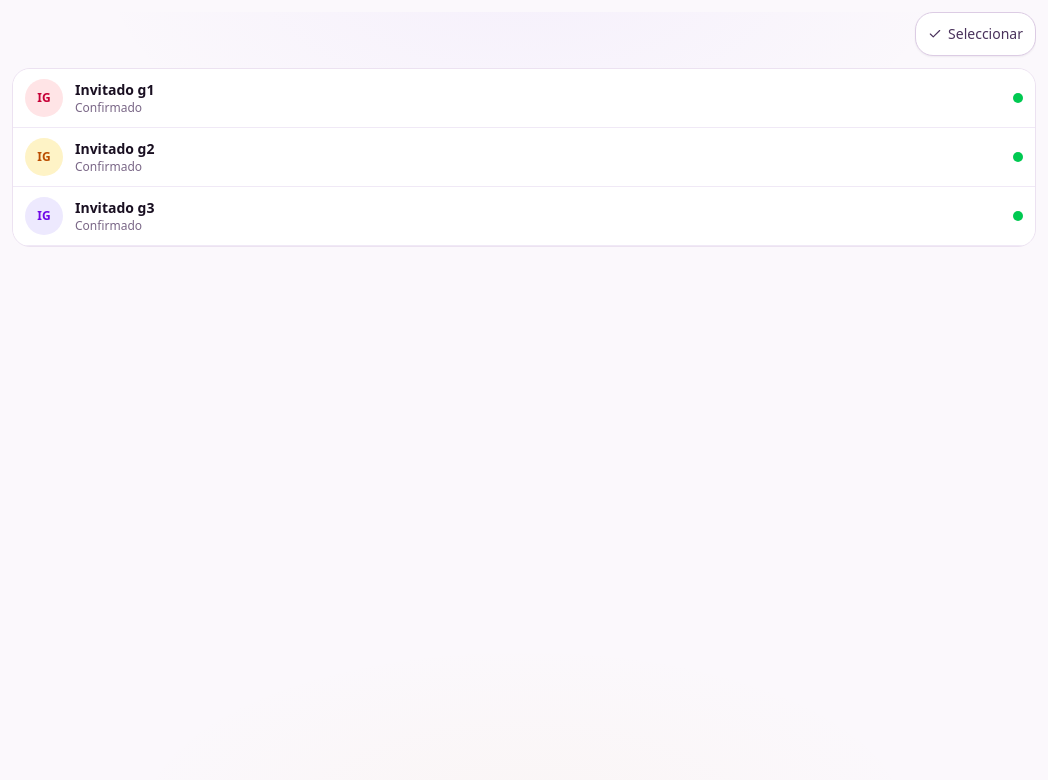
Test: GuestList — modo selección › vuelve a tocar "Seleccionar todos" y deselecciona a todos
This screenshot has width=1048, height=780.
Click the button "Seleccionar".
click(976, 34)  # box [915,12,1036,56]
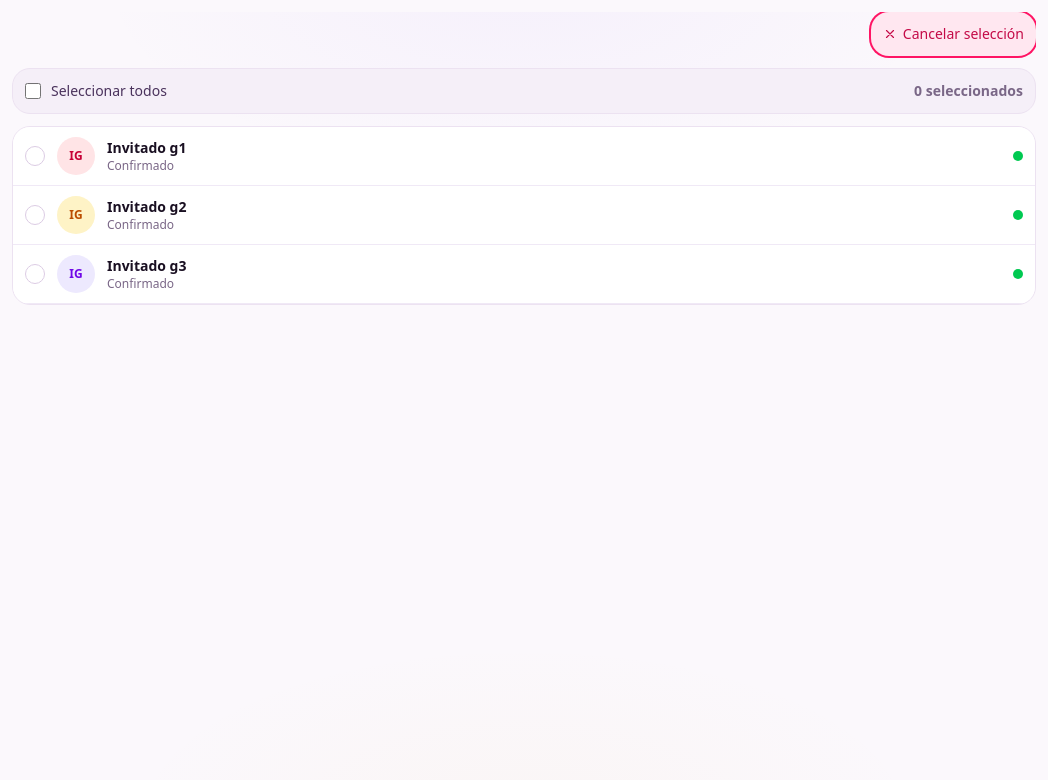
Click the checkbox named "Seleccionar todos los invitados".
click(33, 91)  # box [25,83,41,99]
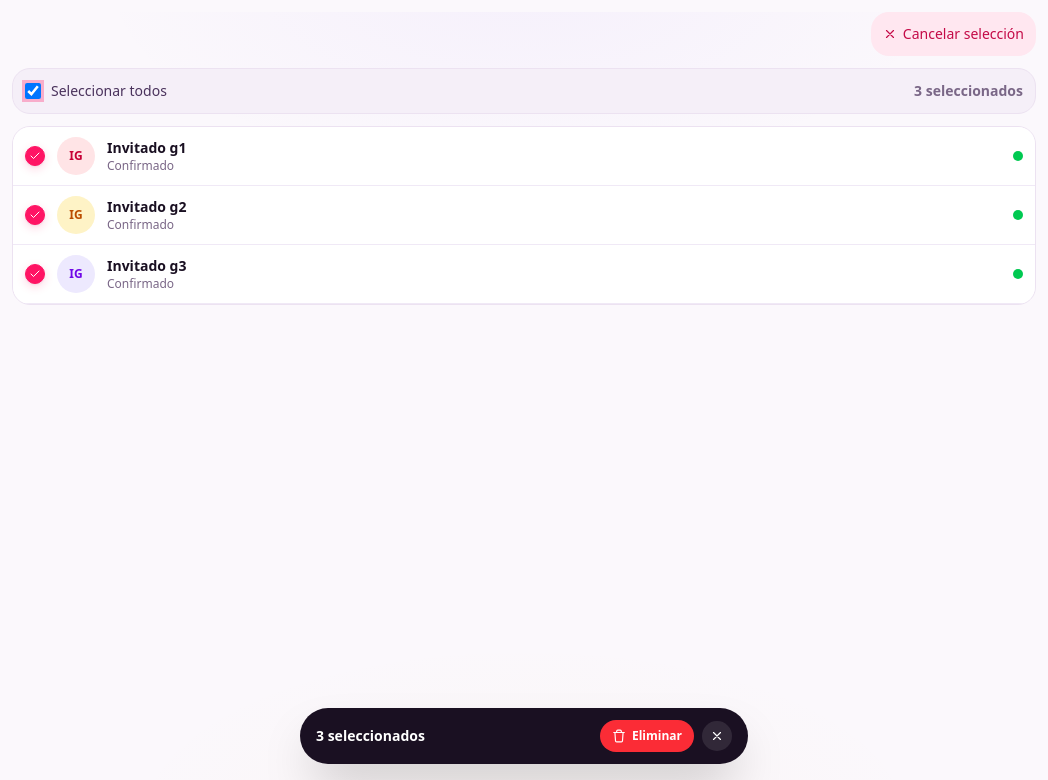
Click the checkbox named "Seleccionar todos los invitados".
click(33, 91)  # box [25,83,41,99]
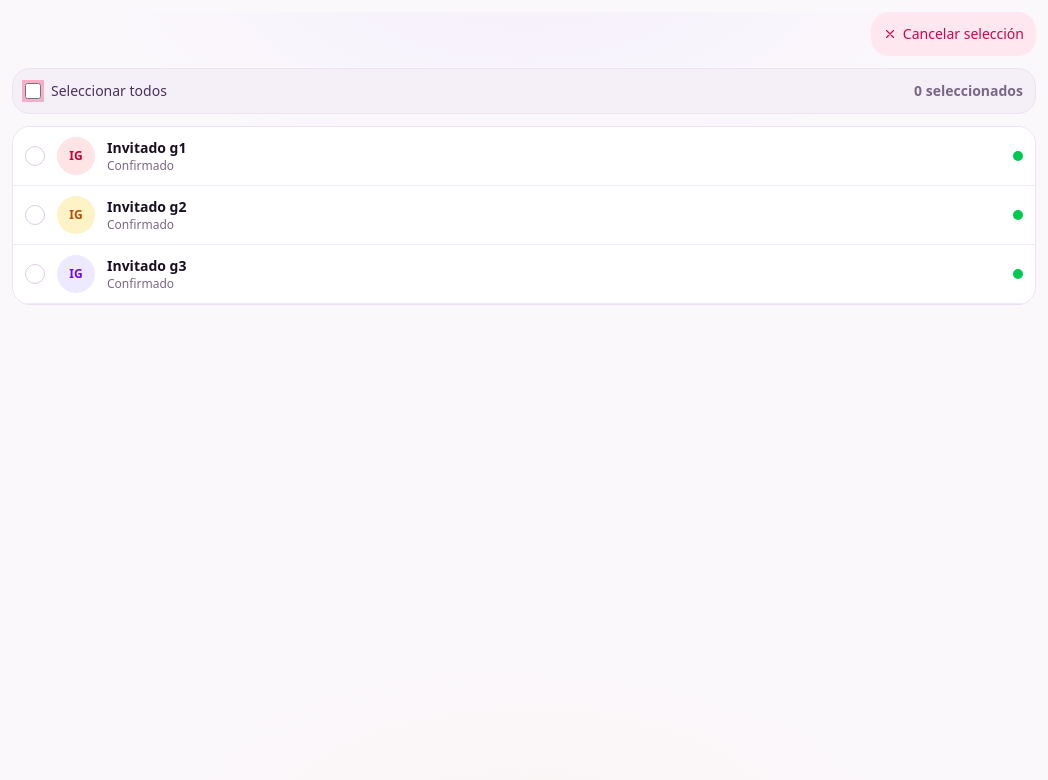
Check: the checkbox named "Seleccionar todos los invitados" is not checked, box [25,83,41,99]
Check: the text "0 seleccionados" is shown, box [914,81,1023,101]
